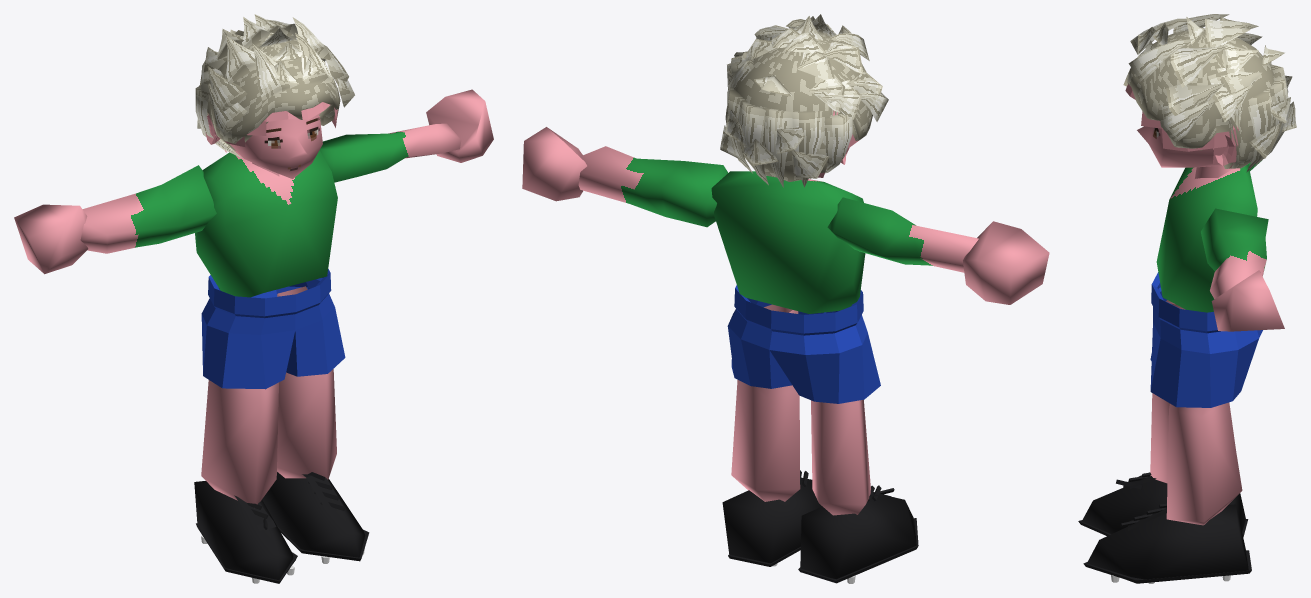
Rendered from 06-espetado-gel_loiro-pintado.glb.
The picture shows the model from 3 angles, left to right: view 1: azimuth 30°, elevation 25°; view 2: azimuth 150°, elevation 25°; view 3: azimuth 270°, elevation 25°; orthographic projection. The views are drawn at different scales.
Parts seen in each view (by area): view 1: Camisa_Tronco, Cabelo, Bermuda, Perna.R, Braco.R, Perna.L, Chuteira.R, Chuteira.L, Braco.L, Mao.R, Cabeca, Mao.L (+2 smaller); view 2: Cabelo, Camisa_Tronco, Bermuda, Perna.L, Braco.L, Chuteira.R, Perna.R, Braco.R, Mao.R, Chuteira.L, Mao.L, Chuteira_Sola.R; view 3: Cabelo, Bermuda, Chuteira.L, Camisa_Tronco, Perna.L, Braco.L, Mao.L, Chuteira.R, Perna.R, Cabeca, Couro_Cabeludo, Chuteira_Sola.L (+3 smaller).
Part boxes in pixels (left/top/right/bottom): Camisa_Tronco: left=195, top=150, right=337, bottom=297; Cabelo: left=195, top=14, right=354, bottom=157; Bermuda: left=201, top=269, right=345, bottom=389; Perna.R: left=201, top=380, right=278, bottom=504; Braco.R: left=80, top=165, right=216, bottom=253; Perna.L: left=277, top=286, right=336, bottom=479; Chuteira.R: left=194, top=481, right=295, bottom=579; Chuteira.L: left=262, top=472, right=365, bottom=557; Braco.L: left=319, top=123, right=461, bottom=182; Mao.R: left=14, top=204, right=88, bottom=274; Cabeca: left=230, top=113, right=322, bottom=178; Mao.L: left=426, top=89, right=493, bottom=162; Cabelo: left=720, top=14, right=888, bottom=187; Camisa_Tronco: left=711, top=171, right=865, bottom=313; Bermuda: left=727, top=285, right=880, bottom=403; Perna.L: left=731, top=304, right=800, bottom=501; Braco.L: left=578, top=146, right=727, bottom=227; Chuteira.R: left=800, top=492, right=916, bottom=579; Perna.R: left=811, top=399, right=870, bottom=515; Braco.R: left=827, top=197, right=978, bottom=272; Mao.R: left=963, top=221, right=1049, bottom=304; Chuteira.L: left=722, top=477, right=822, bottom=563; Mao.L: left=522, top=127, right=586, bottom=201; Chuteira_Sola.R: left=798, top=518, right=918, bottom=583; Cabelo: left=1123, top=14, right=1296, bottom=172; Bermuda: left=1150, top=272, right=1262, bottom=407; Chuteira.L: left=1087, top=504, right=1248, bottom=583; Camisa_Tronco: left=1156, top=164, right=1257, bottom=312; Perna.L: left=1166, top=402, right=1242, bottom=525; Braco.L: left=1201, top=208, right=1268, bottom=298; Mao.L: left=1211, top=270, right=1284, bottom=331; Chuteira.R: left=1082, top=476, right=1245, bottom=533; Perna.R: left=1150, top=300, right=1235, bottom=483; Cabeca: left=1137, top=126, right=1221, bottom=167; Couro_Cabeludo: left=1125, top=84, right=1238, bottom=168; Chuteira_Sola.L: left=1083, top=550, right=1251, bottom=583.
Bounding box in the file's own units: 0.4523 × 0.4669 × 0.171.
Materials: 3 (3 with a texture image).
